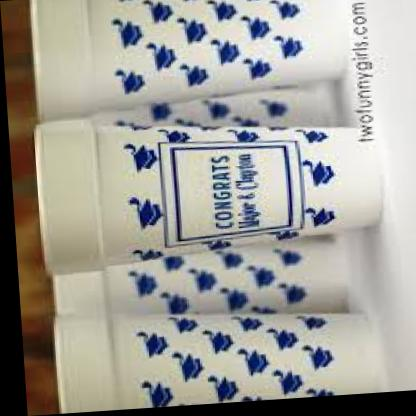Plastic: (11, 0, 399, 414)
